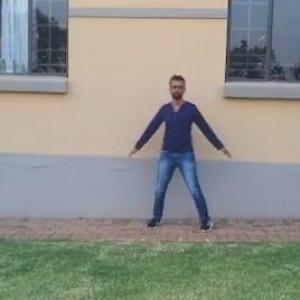land: (130, 79, 236, 242)
